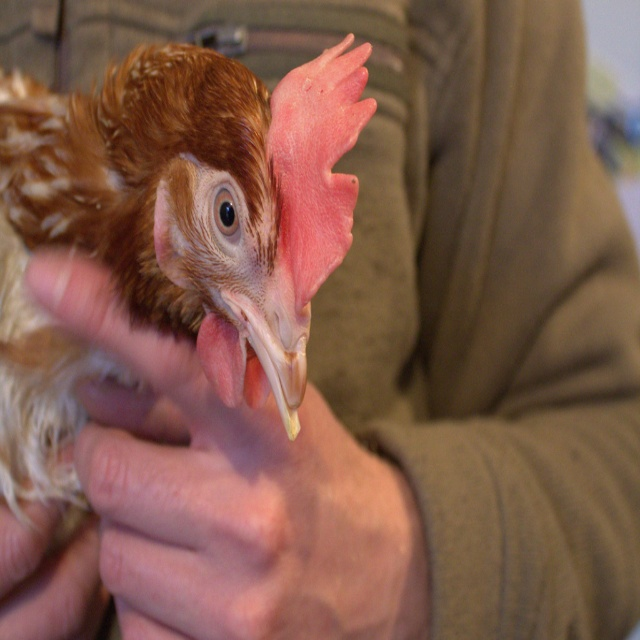Chicken: (0, 26, 380, 516)
